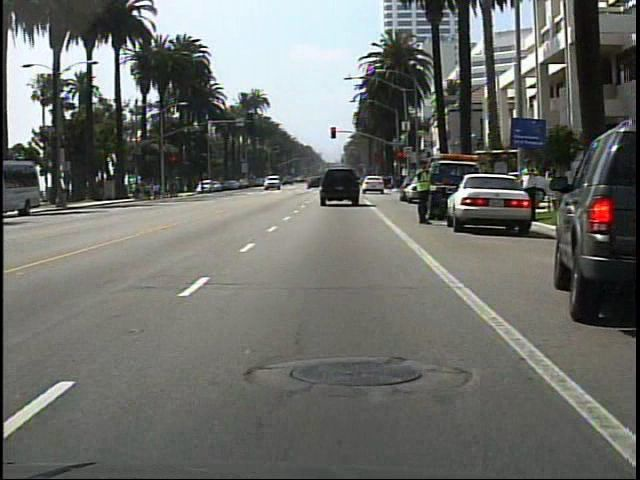person: (519, 156, 544, 239), (410, 160, 435, 226)
